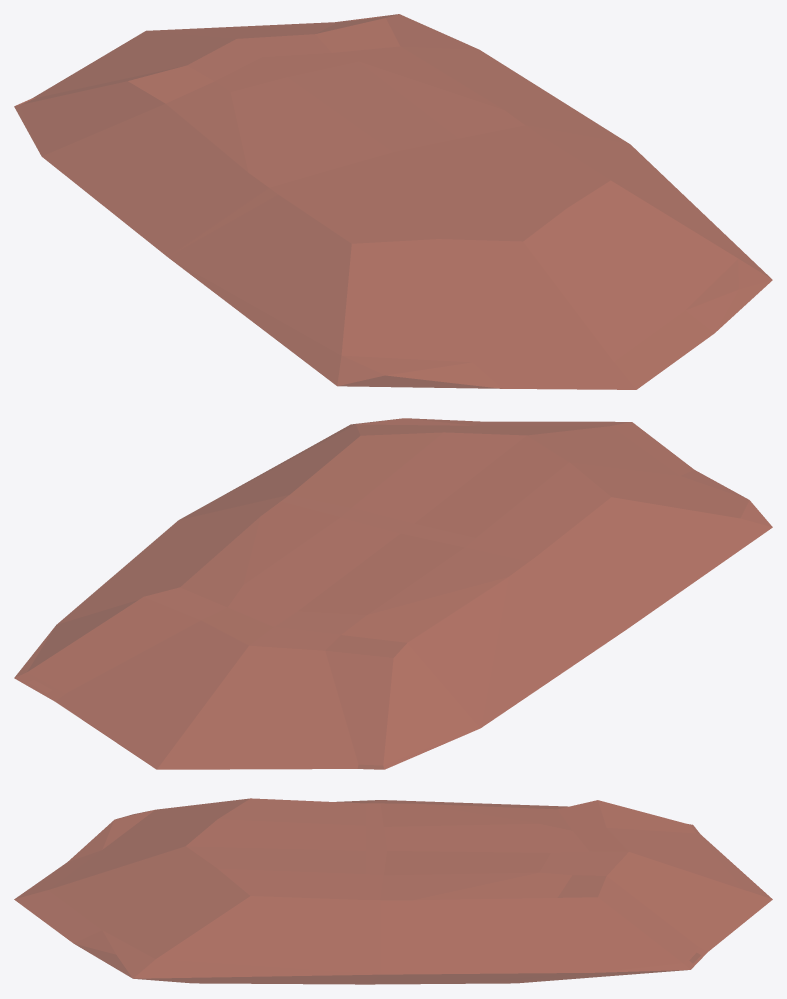
3 renders of one model, top to bottom at view 1: azimuth 30°, elevation 25°; view 2: azimuth 150°, elevation 25°; view 3: azimuth 270°, elevation 25°, orthographic. The views are drawn at different scales.
Visible parts, largest first — view 1: Cube; view 2: Cube; view 3: Cube.
Boxes of the visible parts, left/top/right/bottom form: Cube: left=14, top=14, right=772, bottom=389; Cube: left=14, top=418, right=772, bottom=769; Cube: left=14, top=798, right=772, bottom=984.
Bounding box in the file's own units: 0.3168 × 0.0833 × 0.5817.
